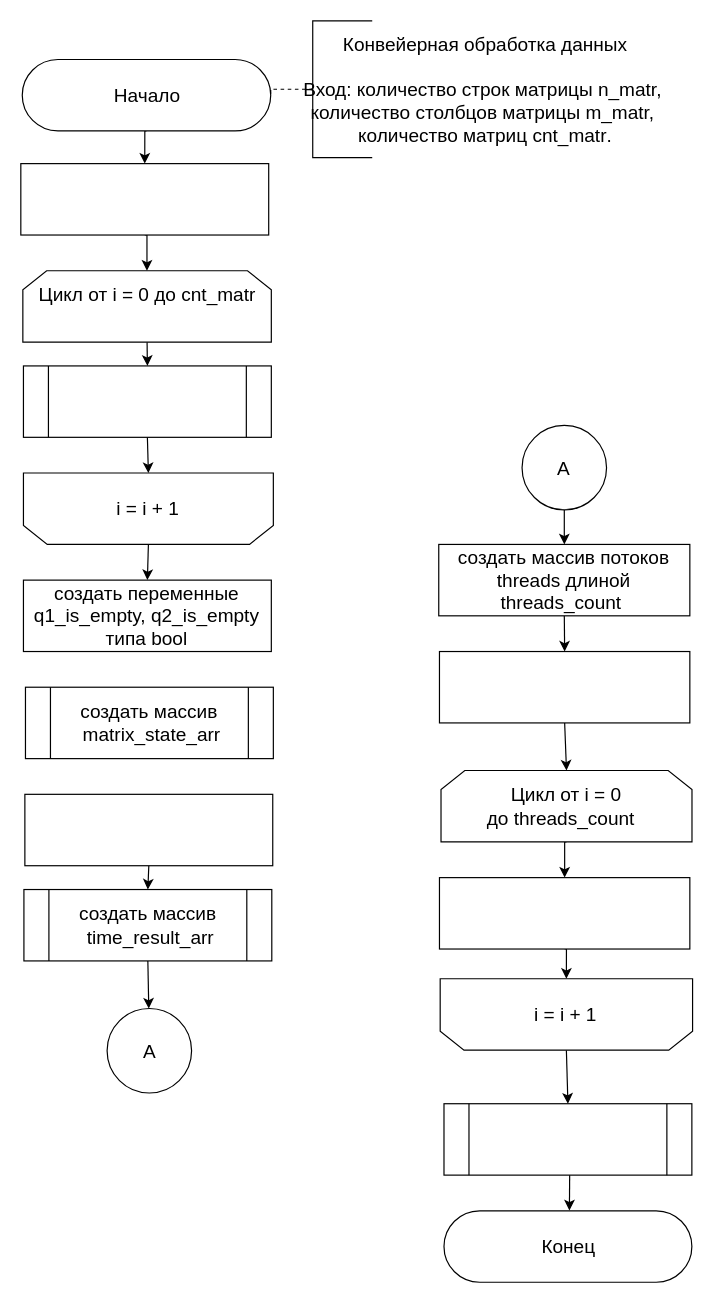
The diagram is 714 pixels wide and 1303 high, and some of its shapes have lost their labels. The shapes that lost their labels are listed below. From the top down, each one's box as (x1, y1, x2, y2) in pixels, then its label:
(20, 162, 269, 235): создать очереди этапов обработки q1, q2, q3
(22, 365, 271, 437): Сгенерировать матрицу и добавить её в очередь q1
(438, 650, 690, 723): выделить задачи потокам и запустить из
(24, 793, 273, 866): замерить текущее время (timeBegin)
(438, 876, 690, 949): Указать, что главный поток должен дождаться потока threads[i]
(443, 1103, 692, 1175): напечатать результат в правильной форме
